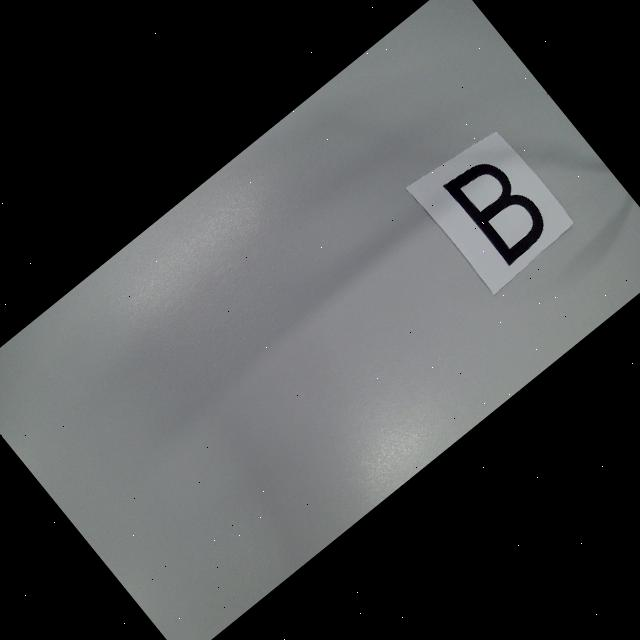FAKE: (444, 148, 554, 266)
